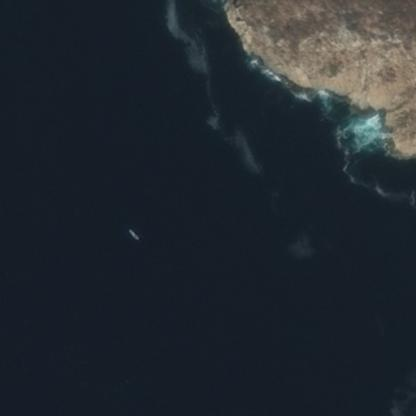ship: (127, 226, 139, 241)
